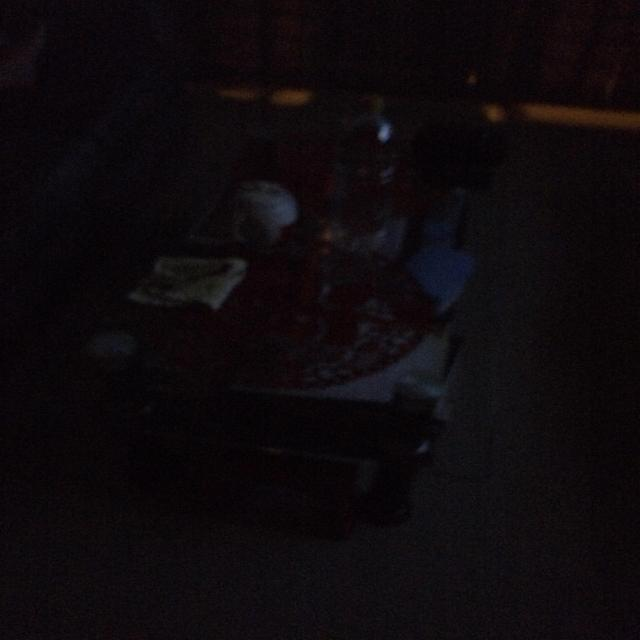Table: (50, 101, 543, 531)
